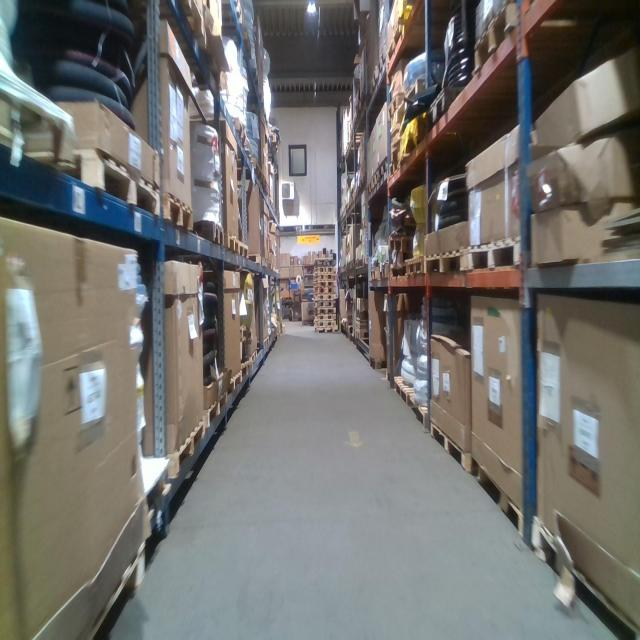pallet: (12, 146, 163, 214), (60, 524, 148, 639), (473, 459, 526, 537), (157, 412, 205, 492), (151, 183, 194, 244), (430, 418, 473, 478), (466, 238, 526, 274), (178, 0, 211, 58), (427, 243, 471, 284), (424, 87, 454, 140), (192, 211, 224, 260), (202, 383, 229, 441), (397, 80, 424, 127), (407, 391, 432, 434), (385, 23, 403, 65), (404, 250, 426, 284), (393, 375, 415, 407), (222, 366, 241, 403), (230, 113, 249, 148), (386, 92, 403, 125), (389, 232, 416, 252), (250, 155, 265, 189), (389, 157, 407, 182), (377, 152, 390, 185), (369, 355, 387, 377), (225, 228, 239, 256), (239, 355, 253, 382), (231, 0, 245, 26), (389, 263, 407, 282), (237, 326, 254, 345), (354, 324, 370, 341), (257, 331, 271, 349), (239, 240, 249, 262), (249, 347, 258, 368), (313, 293, 336, 301), (314, 313, 337, 321), (354, 310, 369, 322), (314, 274, 336, 282), (378, 264, 387, 283), (314, 258, 333, 267), (313, 280, 336, 287), (369, 268, 379, 284), (366, 177, 372, 201), (371, 168, 376, 196), (314, 266, 334, 273), (313, 287, 336, 293), (314, 321, 337, 327), (313, 301, 335, 307), (314, 307, 335, 313), (360, 173, 367, 190), (314, 327, 335, 332), (360, 220, 369, 230), (363, 255, 368, 266), (356, 184, 360, 197), (358, 257, 363, 267), (351, 260, 356, 270), (355, 258, 362, 265), (353, 189, 356, 202)
pallet_truck: (287, 274, 301, 322)
